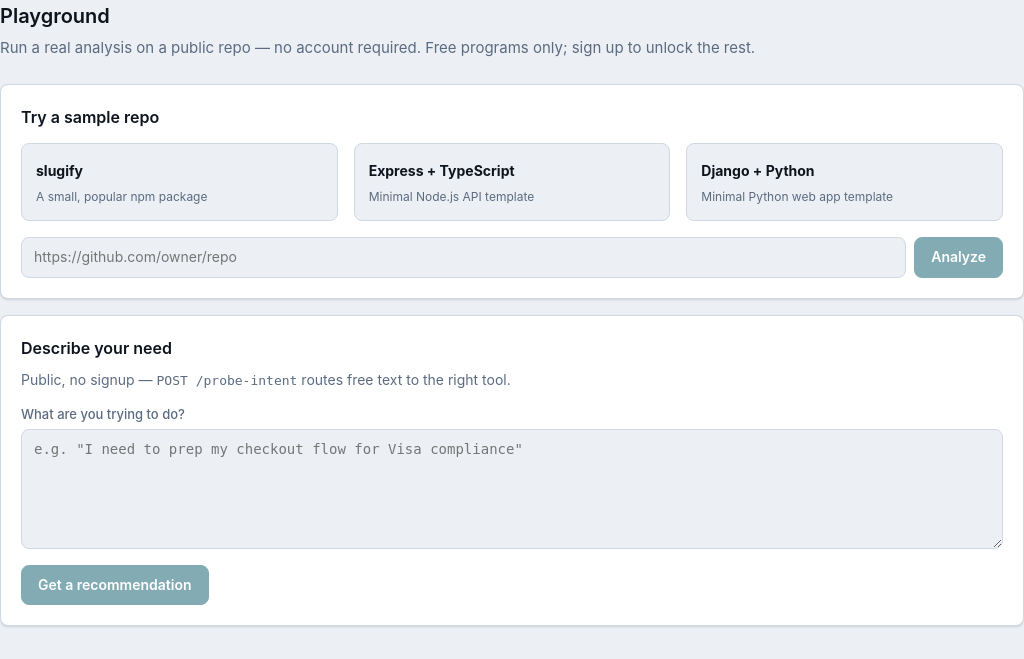
PlaygroundPage — running a real analysis › 'Try another repo' clears the result and the local cache
Click the text "slugify" at (60, 170), box [36,162,83,179]
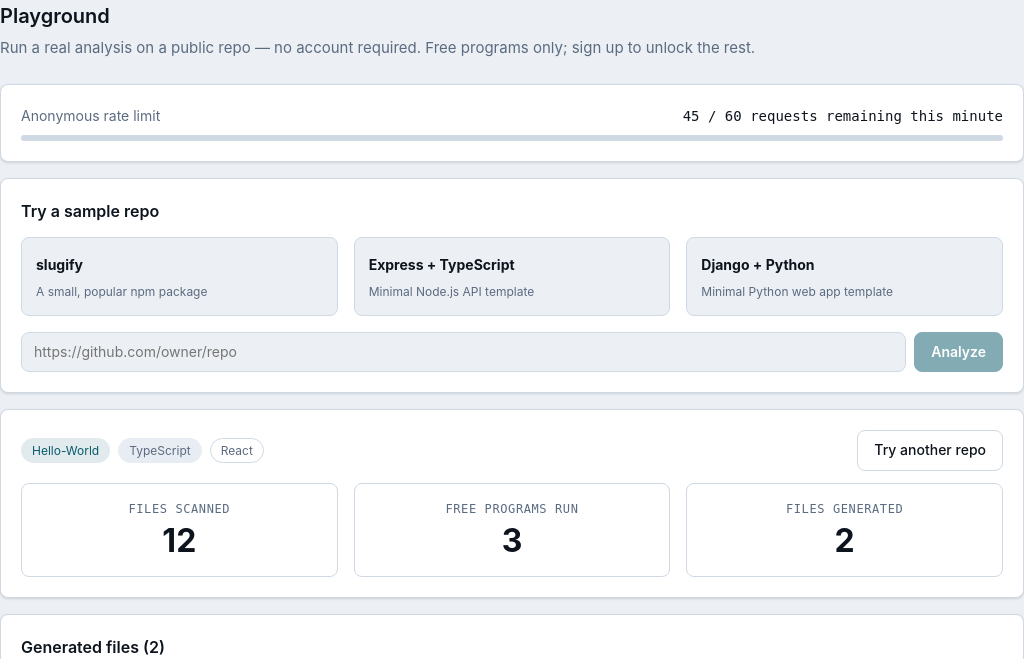
Check: the text "Hello-World" is shown, box [21,438,110,463]
Click the button "Try another repo" at (930, 450), box [857,430,1003,471]
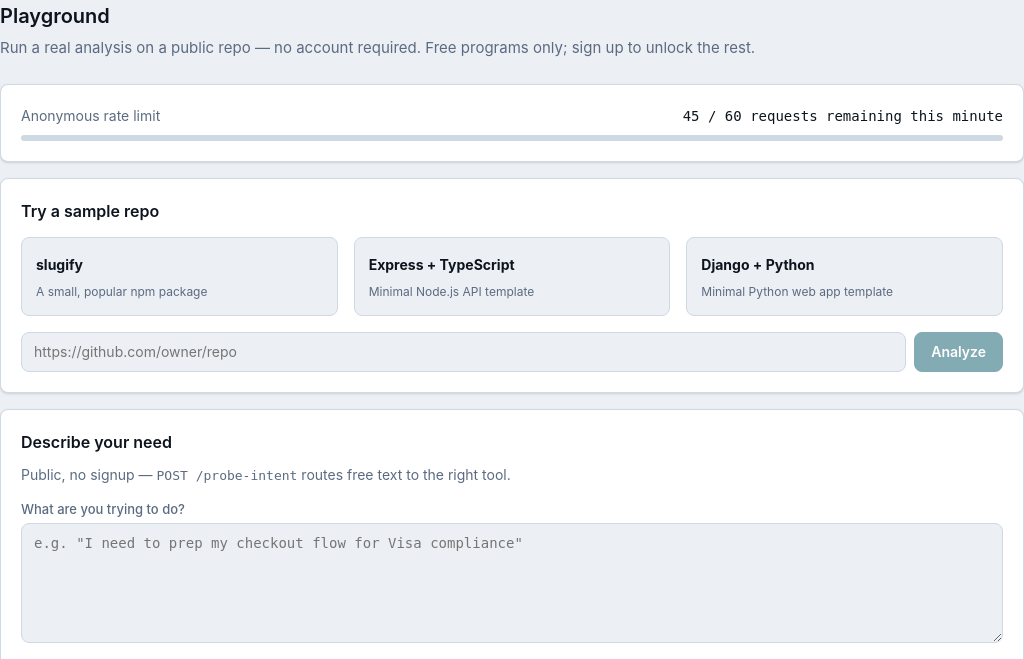
Check: the text "Hello-World" is gone
